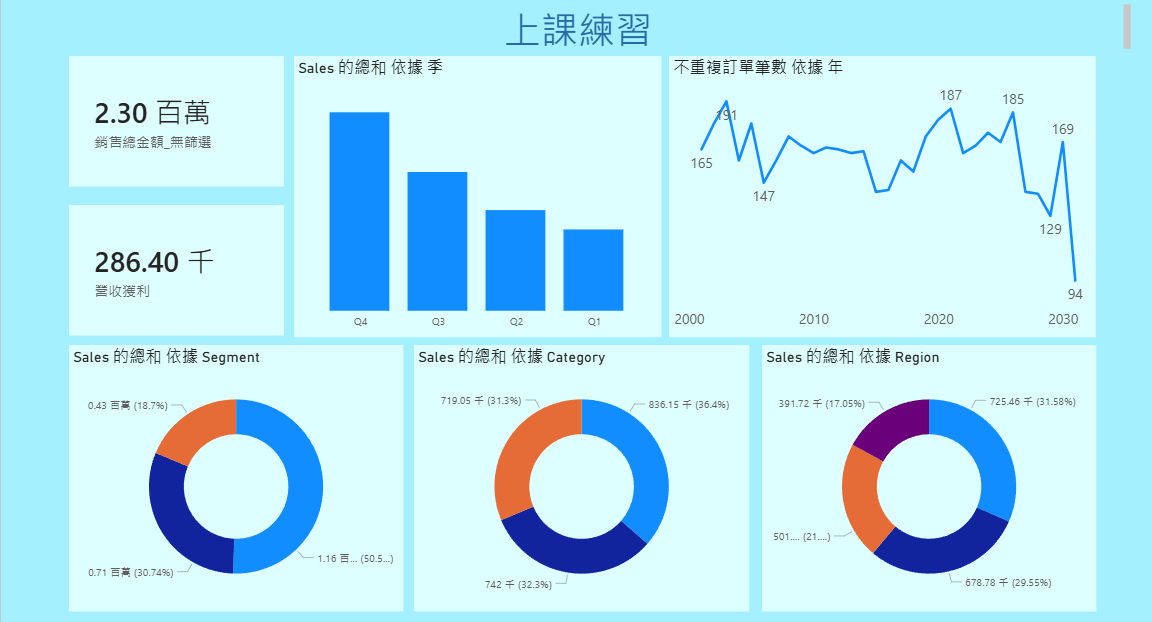

The page's visual inventory and layout, read from the dashboard file:
{"tool":"powerbi","page":{"name":"首頁","canvas":[1280,720],"ordinal":0},"visuals":[{"type":"textbox","box":[10.2,0,1269.8,63.7],"z":0},{"type":"donutChart","fields":{"Category":["dim_客群.Segment"],"Y":["Sum(Sales_csv.Sales)"]},"box":[56.1,396.5,383.7,306],"z":1000},{"type":"donutChart","fields":{"Category":["Sales_csv.Region"],"Y":["Sum(Sales_csv.Sales)"]},"box":[851.6,396.5,383.7,306],"z":2000},{"type":"donutChart","fields":{"Y":["Sum(Sales_csv.Sales)"],"Category":["dim_主產品類型.Category"]},"box":[452.6,396.5,385,306],"z":3000},{"type":"lineChart","fields":{"Category":["dim_訂貨時間.年"],"Y":["量值專用資料表.不重複訂單筆數"]},"box":[745.8,63.7,489.6,322.5],"z":4000},{"type":"cardVisual","fields":{"Data":["量值專用資料表.銷售總金額_無篩選"]},"box":[56.1,63.7,247.3,150.4],"z":5000},{"type":"actionButton","box":[56.1,63.7,247.3,150.4],"z":6000},{"type":"cardVisual","fields":{"Data":["量值專用資料表.營收獲利"]},"box":[56.1,235.9,247.3,150.4],"z":7000},{"type":"actionButton","box":[56.1,235.9,247.3,150.4],"z":8000},{"type":"columnChart","fields":{"Category":["dim_訂貨時間.季"],"Y":["Sum(Sales_csv.Sales)"]},"box":[314.9,63.7,422,322.5],"z":9000},{"type":"actionButton","box":[314.9,63.7,422,322.5],"z":10000},{"type":"actionButton","box":[745.8,63.7,489.6,322.5],"z":11000},{"type":"actionButton","box":[56.1,396.5,383.7,306],"z":12000},{"type":"actionButton","box":[452.6,396.5,383.7,306],"z":13000},{"type":"actionButton","box":[851.6,396.5,383.7,306],"z":14000}]}

Visuals, with their boxes on the page's 1280x720 design canvas (x1, y1, x2, y2). These are canvas units, not pixel positions in the 1152x622 screenshot, which may show the page scaled, cropped or inside an application window:
textbox: BBox(10, 0, 1280, 64)
donutChart - dim_客群.Segment x Sum(Sales_csv.Sales): BBox(56, 396, 440, 702)
donutChart - Sales_csv.Region x Sum(Sales_csv.Sales): BBox(852, 396, 1235, 702)
donutChart - Sum(Sales_csv.Sales) x dim_主產品類型.Category: BBox(453, 396, 838, 702)
lineChart - dim_訂貨時間.年 x 量值專用資料表.不重複訂單筆數: BBox(746, 64, 1235, 386)
cardVisual - 量值專用資料表.銷售總金額_無篩選: BBox(56, 64, 303, 214)
actionButton: BBox(56, 64, 303, 214)
cardVisual - 量值專用資料表.營收獲利: BBox(56, 236, 303, 386)
actionButton: BBox(56, 236, 303, 386)
columnChart - dim_訂貨時間.季 x Sum(Sales_csv.Sales): BBox(315, 64, 737, 386)
actionButton: BBox(315, 64, 737, 386)
actionButton: BBox(746, 64, 1235, 386)
actionButton: BBox(56, 396, 440, 702)
actionButton: BBox(453, 396, 836, 702)
actionButton: BBox(852, 396, 1235, 702)
